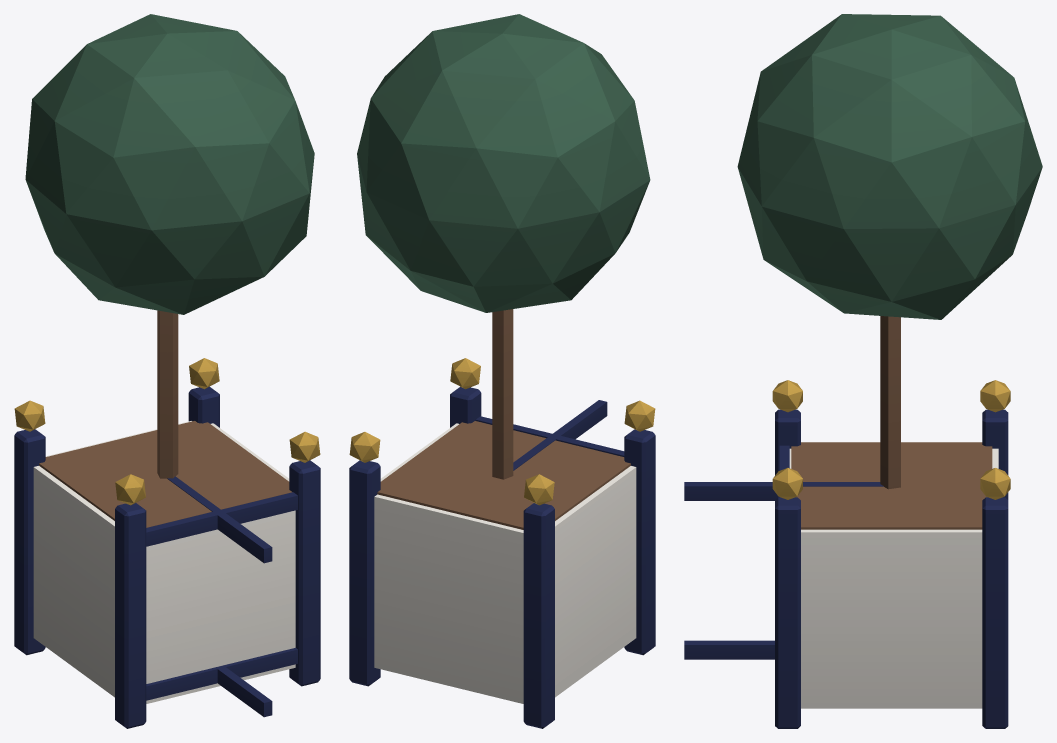
File: planter_versailles.glb
3 views of the same model, side by side, from view 1: azimuth 30°, elevation 25°; view 2: azimuth 150°, elevation 25°; view 3: azimuth 270°, elevation 25° (orthographic). The views are drawn at different scales.
Visible parts, largest first — view 1: planter_versailles.001; view 2: planter_versailles.001; view 3: planter_versailles.001.
Part boxes in pixels (x1,y1,x2,y2): planter_versailles.001: [14, 14, 320, 728]; planter_versailles.001: [349, 14, 655, 728]; planter_versailles.001: [684, 14, 1042, 728].
Size of the model in its own units: 0.9126 by 2.22 by 1.11.
1 material, 1 textured.
